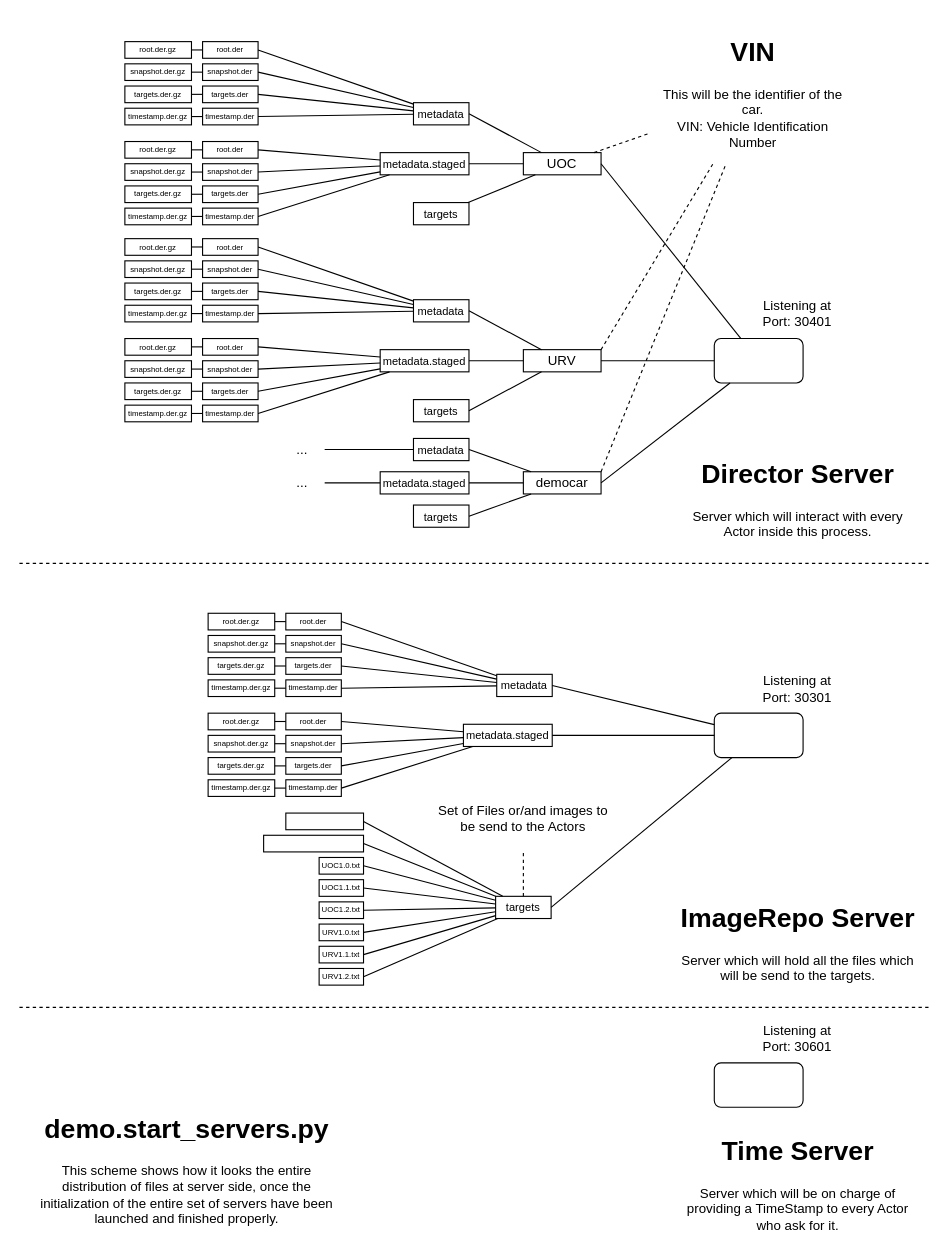
The diagram is 950 pixels wide and 1259 high, and some of its shapes have lost their labels. Each missing label, with the centre of its shape:
"CommonINFO1.0.txt" belongs at pixel 324 821.
"Director Server" belongs at pixel 758 360.
"Image Server" belongs at pixel 758 735.
"infotainment_firmware.txt" belongs at pixel 313 843.
"Time Server" belongs at pixel 758 1084.
